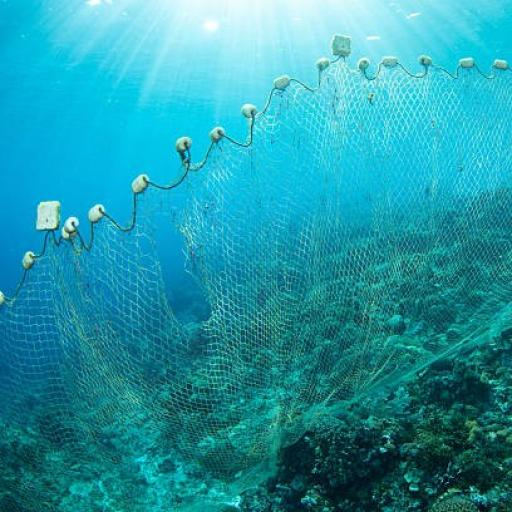net: (4, 30, 512, 512)
